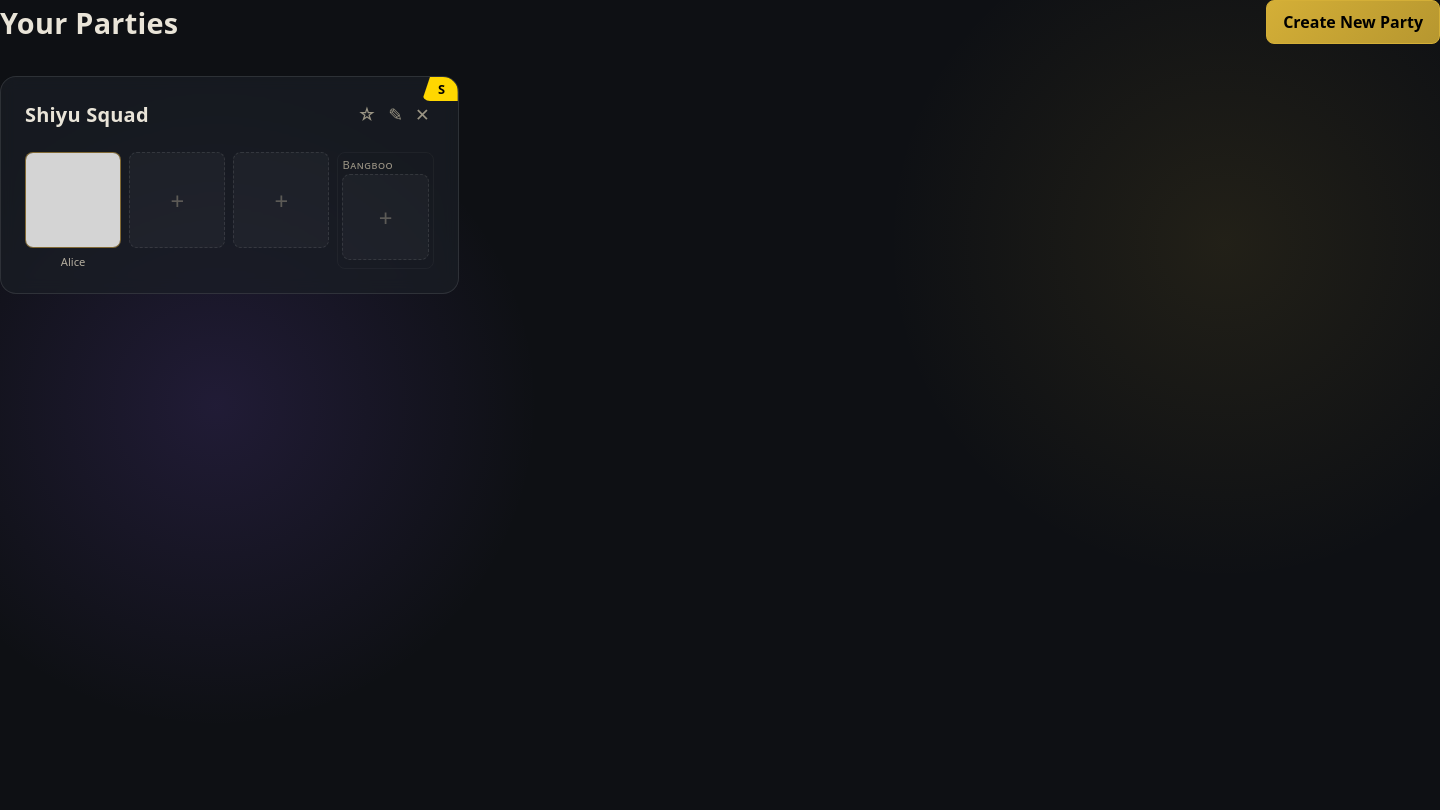
Test: PartiesTab (ZZZ config wiring) › uses the Party noun with the tier selector enabled
This screenshot has width=1440, height=810.
Check: the heading "Your Parties" is shown, box [0,2,178,42]
Step 1. Click the button "Create New Party" → point(1353, 22), box [1266,0,1439,44]
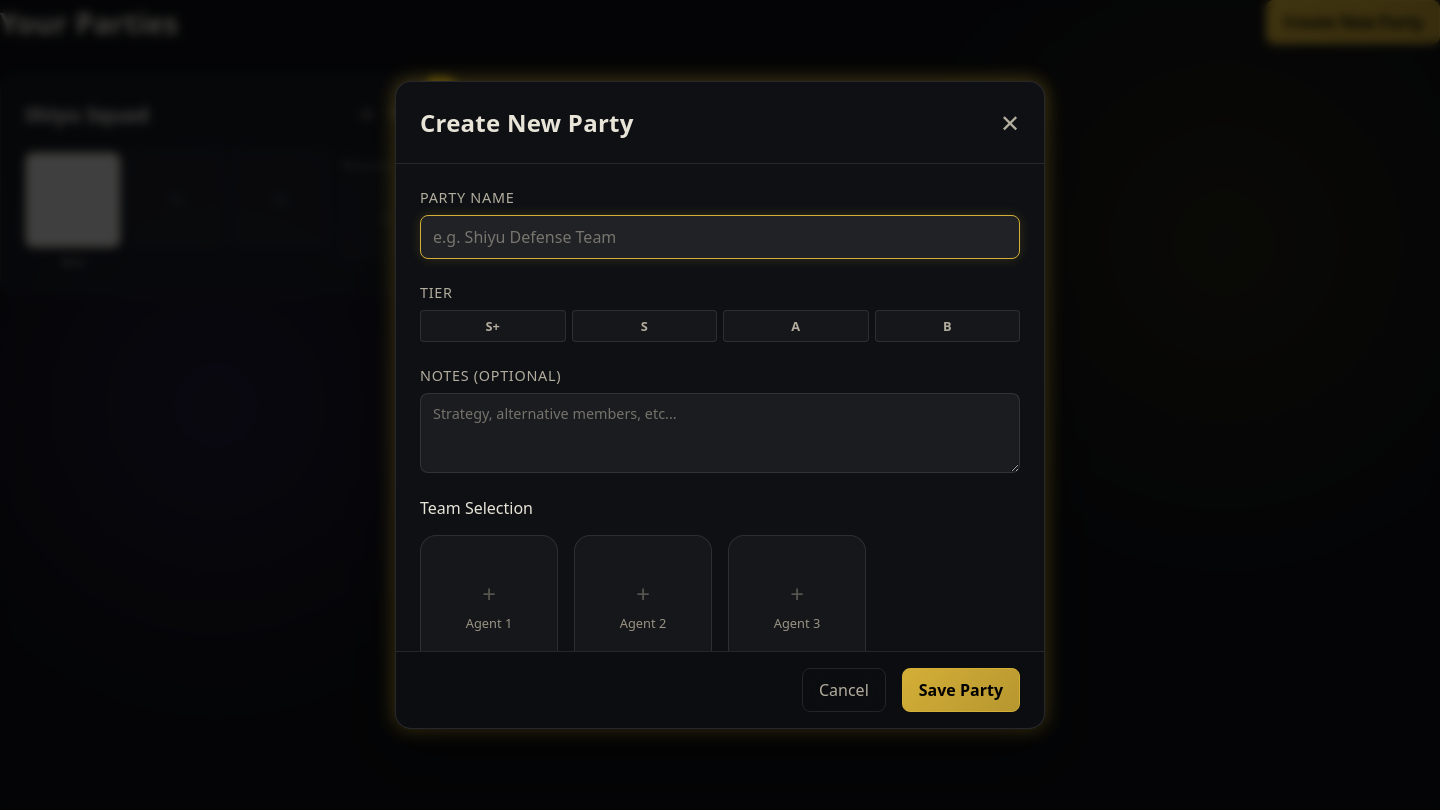
Check: the field with placeholder "e.g. Shiyu Defense Team" is shown, box [420,215,1020,259]
Check: the text "Tier" is shown, box [420,283,453,302]
